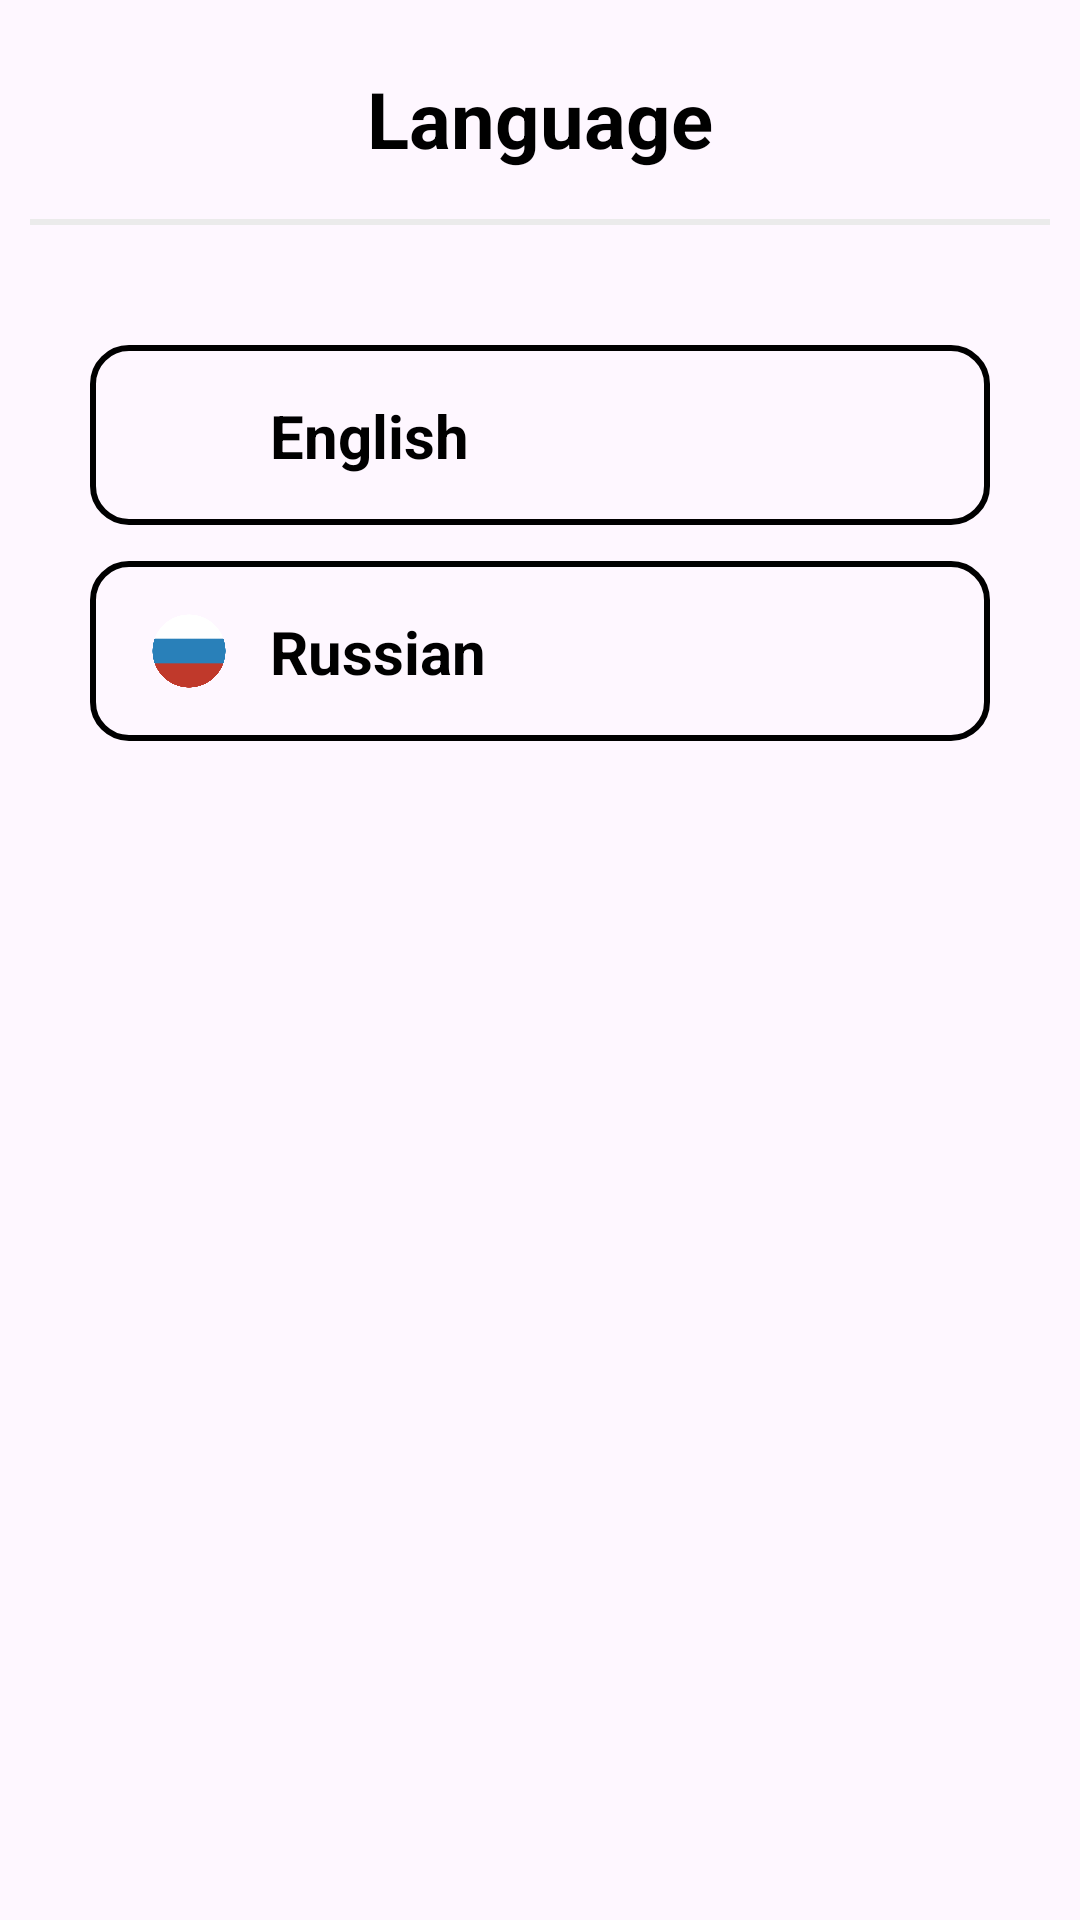

Where to tap for icons on this 1080 x 1920 app screen, as (x=x, y=y):
flag rus: (x=189, y=663)
